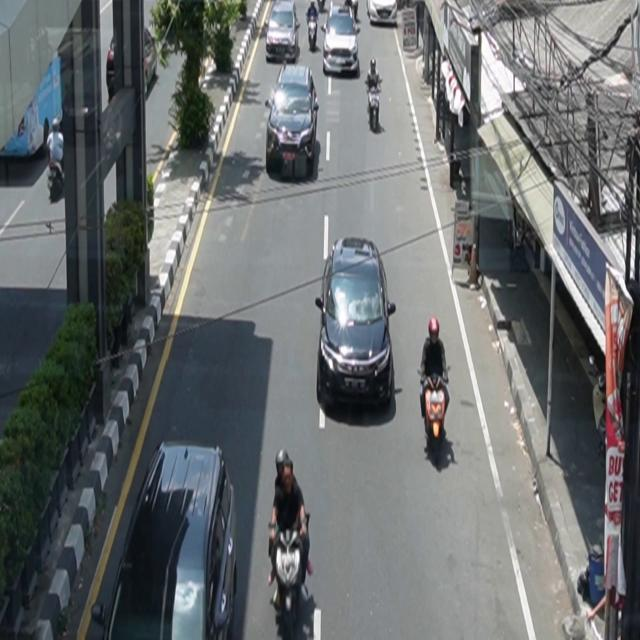car: (91, 441, 239, 640), (316, 237, 397, 413), (265, 63, 320, 181), (107, 27, 158, 102)
